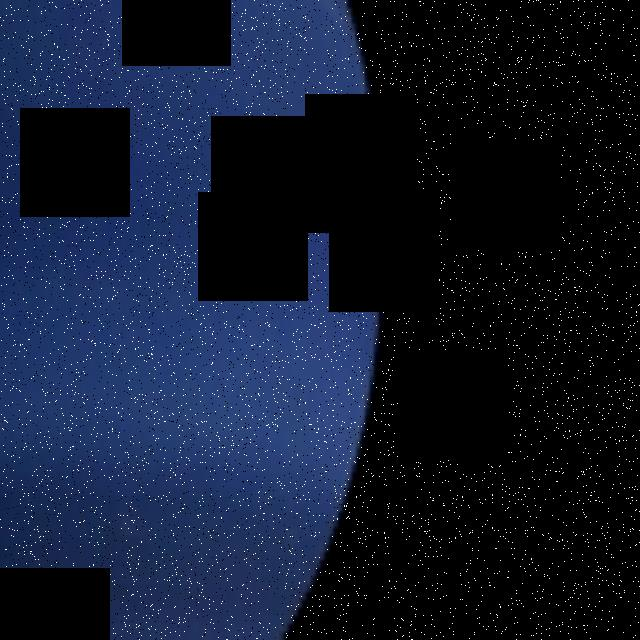Neptune: (0, 0, 383, 640)
